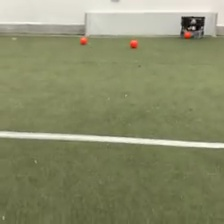ball: (129, 38, 138, 48), (79, 34, 88, 44), (183, 30, 192, 38)
goal: (83, 9, 219, 39)
robot: (180, 15, 206, 39)
